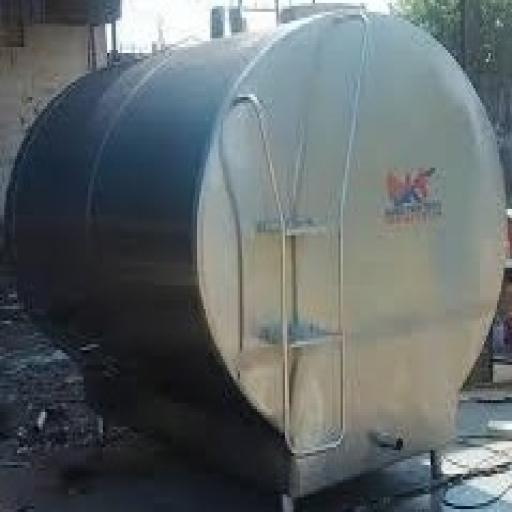silo: (6, 4, 506, 509)
